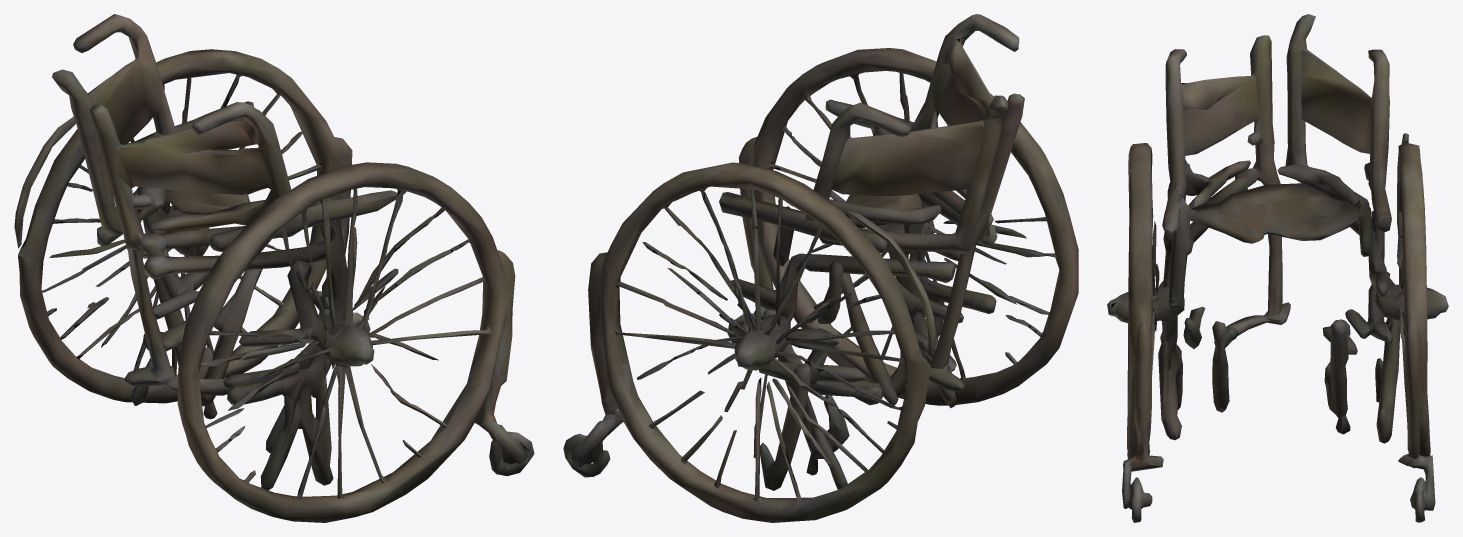
The model's file is old-wood-wheelchair-v001.glb.
3 views of the same model, side by side, from view 1: azimuth 30°, elevation 25°; view 2: azimuth 150°, elevation 25°; view 3: azimuth 270°, elevation 25° (orthographic). The views are drawn at different scales.
Visible parts, largest first — view 1: old-wood-wheelchair; view 2: old-wood-wheelchair; view 3: old-wood-wheelchair.
Boxes of the visible parts, x1,y1,x2,y2 form: old-wood-wheelchair: [14, 14, 534, 522]; old-wood-wheelchair: [563, 14, 1078, 522]; old-wood-wheelchair: [1107, 14, 1448, 522].
Bounding box in the file's own units: 0.8932 × 0.9428 × 0.806.
1 material, 1 textured.
